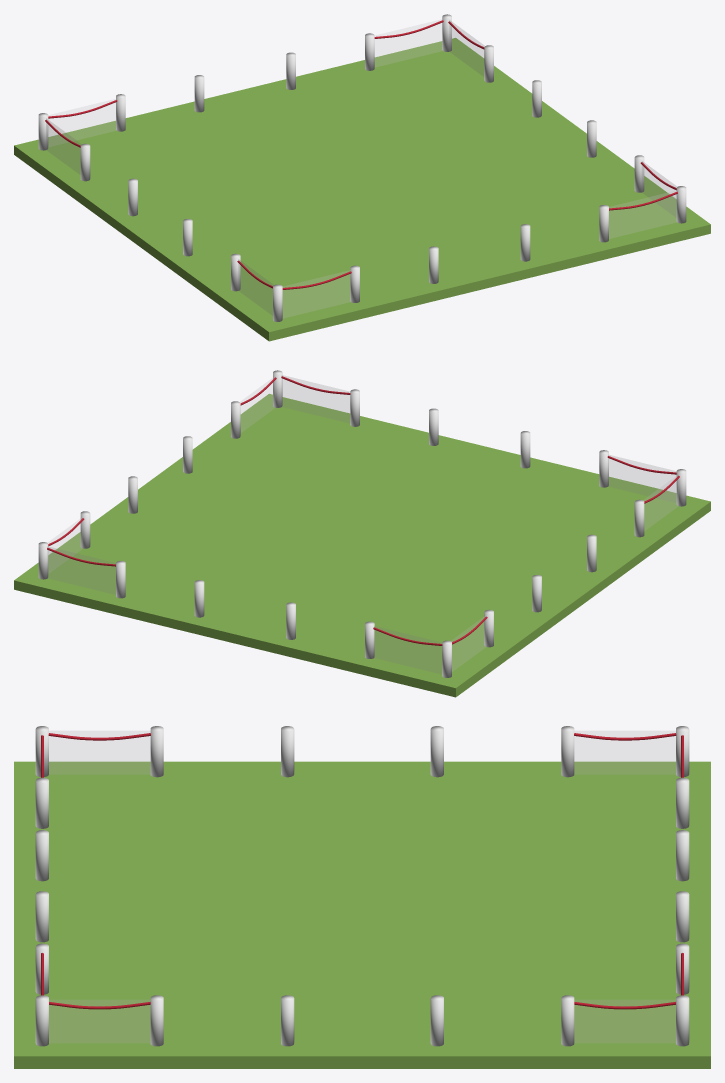
File: keynote.glb
3 renders of one model, top to bottom at view 1: azimuth 30°, elevation 25°; view 2: azimuth 150°, elevation 25°; view 3: azimuth 270°, elevation 25°, orthographic. The views are drawn at different scales.
Visible parts, largest first — view 1: Cube, Plane.001, Plane, Cylinder.003, Cylinder.002, Cylinder, Cylinder.001, Cylinder.004, Cylinder.006; view 2: Cube, Plane.001, Plane, Cylinder.003, Cylinder.002, Cylinder, Cylinder.001, Cylinder.004, Cylinder.006; view 3: Cube, Plane, Cylinder.001, Cylinder.003, Cylinder.002, Cylinder.004, Cylinder, Cylinder.005.
Part boxes in pixels (bbox=[...]): Cube: bbox=[14, 37, 710, 341]; Plane.001: bbox=[48, 19, 676, 317]; Plane: bbox=[46, 20, 676, 315]; Cylinder.003: bbox=[194, 52, 530, 283]; Cylinder.002: bbox=[80, 45, 644, 291]; Cylinder: bbox=[38, 14, 686, 321]; Cylinder.001: bbox=[128, 80, 596, 256]; Cylinder.004: bbox=[116, 33, 608, 302]; Cylinder.006: bbox=[48, 20, 677, 289]; Cube: bbox=[14, 393, 710, 697]; Plane.001: bbox=[48, 375, 676, 673]; Plane: bbox=[48, 376, 678, 671]; Cylinder.003: bbox=[194, 408, 530, 639]; Cylinder.002: bbox=[80, 401, 644, 647]; Cylinder: bbox=[38, 370, 686, 677]; Cylinder.001: bbox=[128, 436, 596, 612]; Cylinder.004: bbox=[116, 389, 608, 658]; Cylinder.006: bbox=[47, 376, 676, 645]; Cube: bbox=[14, 761, 710, 1068]; Plane: bbox=[49, 731, 675, 1042]; Cylinder.001: bbox=[281, 726, 443, 1046]; Cylinder.003: bbox=[35, 830, 689, 942]; Cylinder.002: bbox=[150, 726, 574, 1046]; Cylinder.004: bbox=[35, 777, 689, 994]; Cylinder: bbox=[35, 726, 689, 1046]; Cylinder.005: bbox=[48, 733, 676, 1009].
Size of the model in its own units: 1 by 0.0923 by 1.
